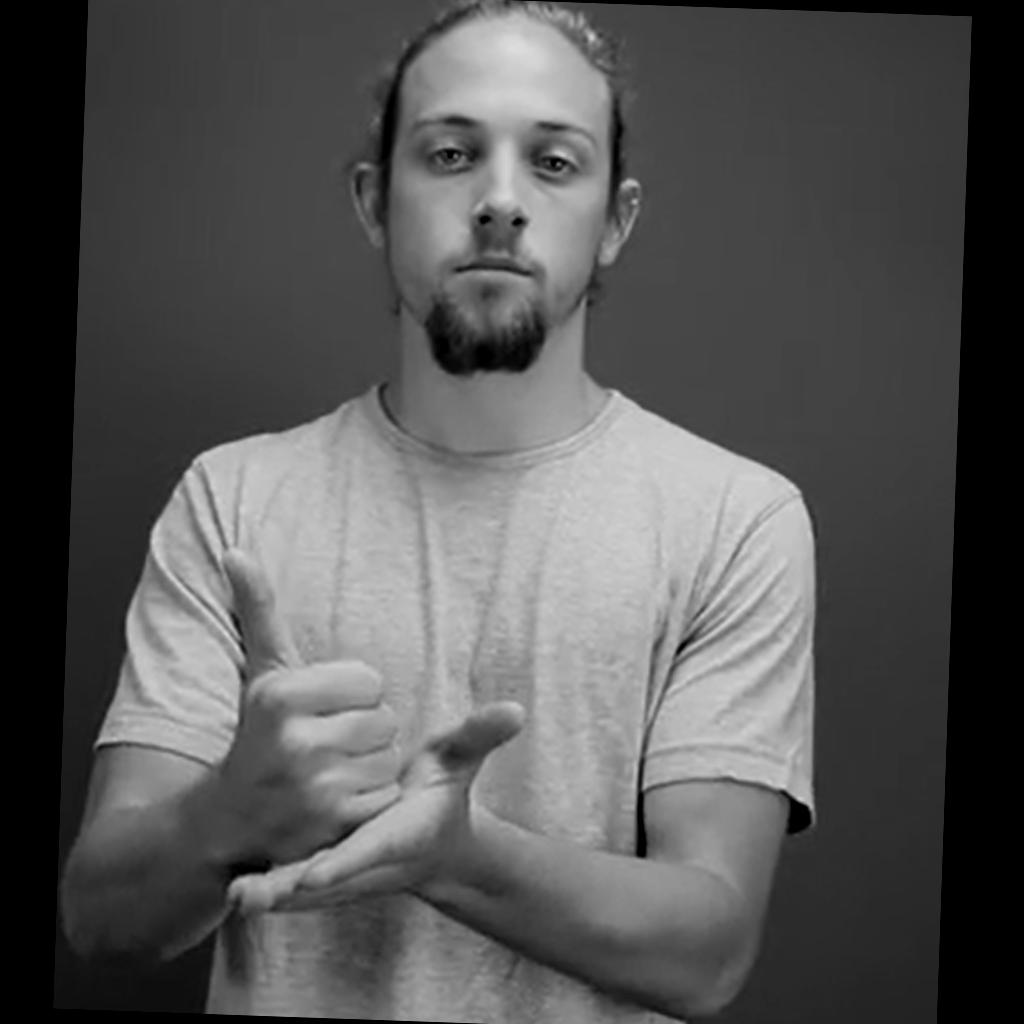help: (210, 548, 532, 924)
